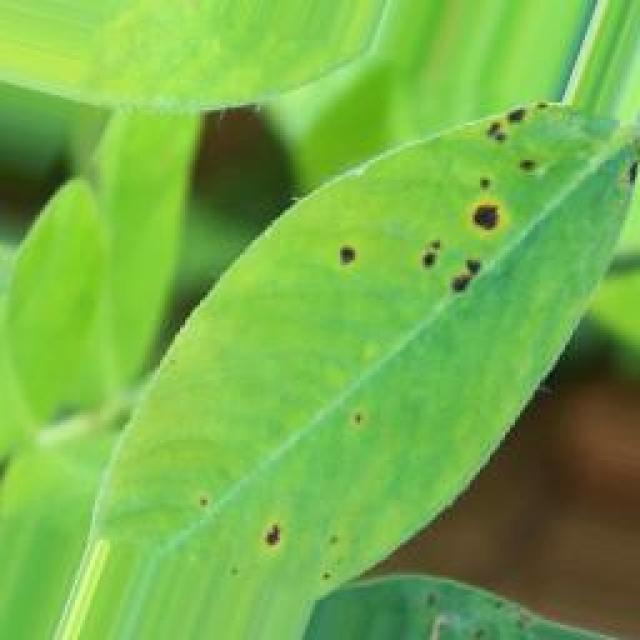Sigatoka: (479, 85, 585, 202), (249, 509, 354, 585), (271, 209, 383, 278), (314, 381, 395, 451), (399, 223, 490, 278), (458, 182, 526, 252), (625, 147, 640, 196)
